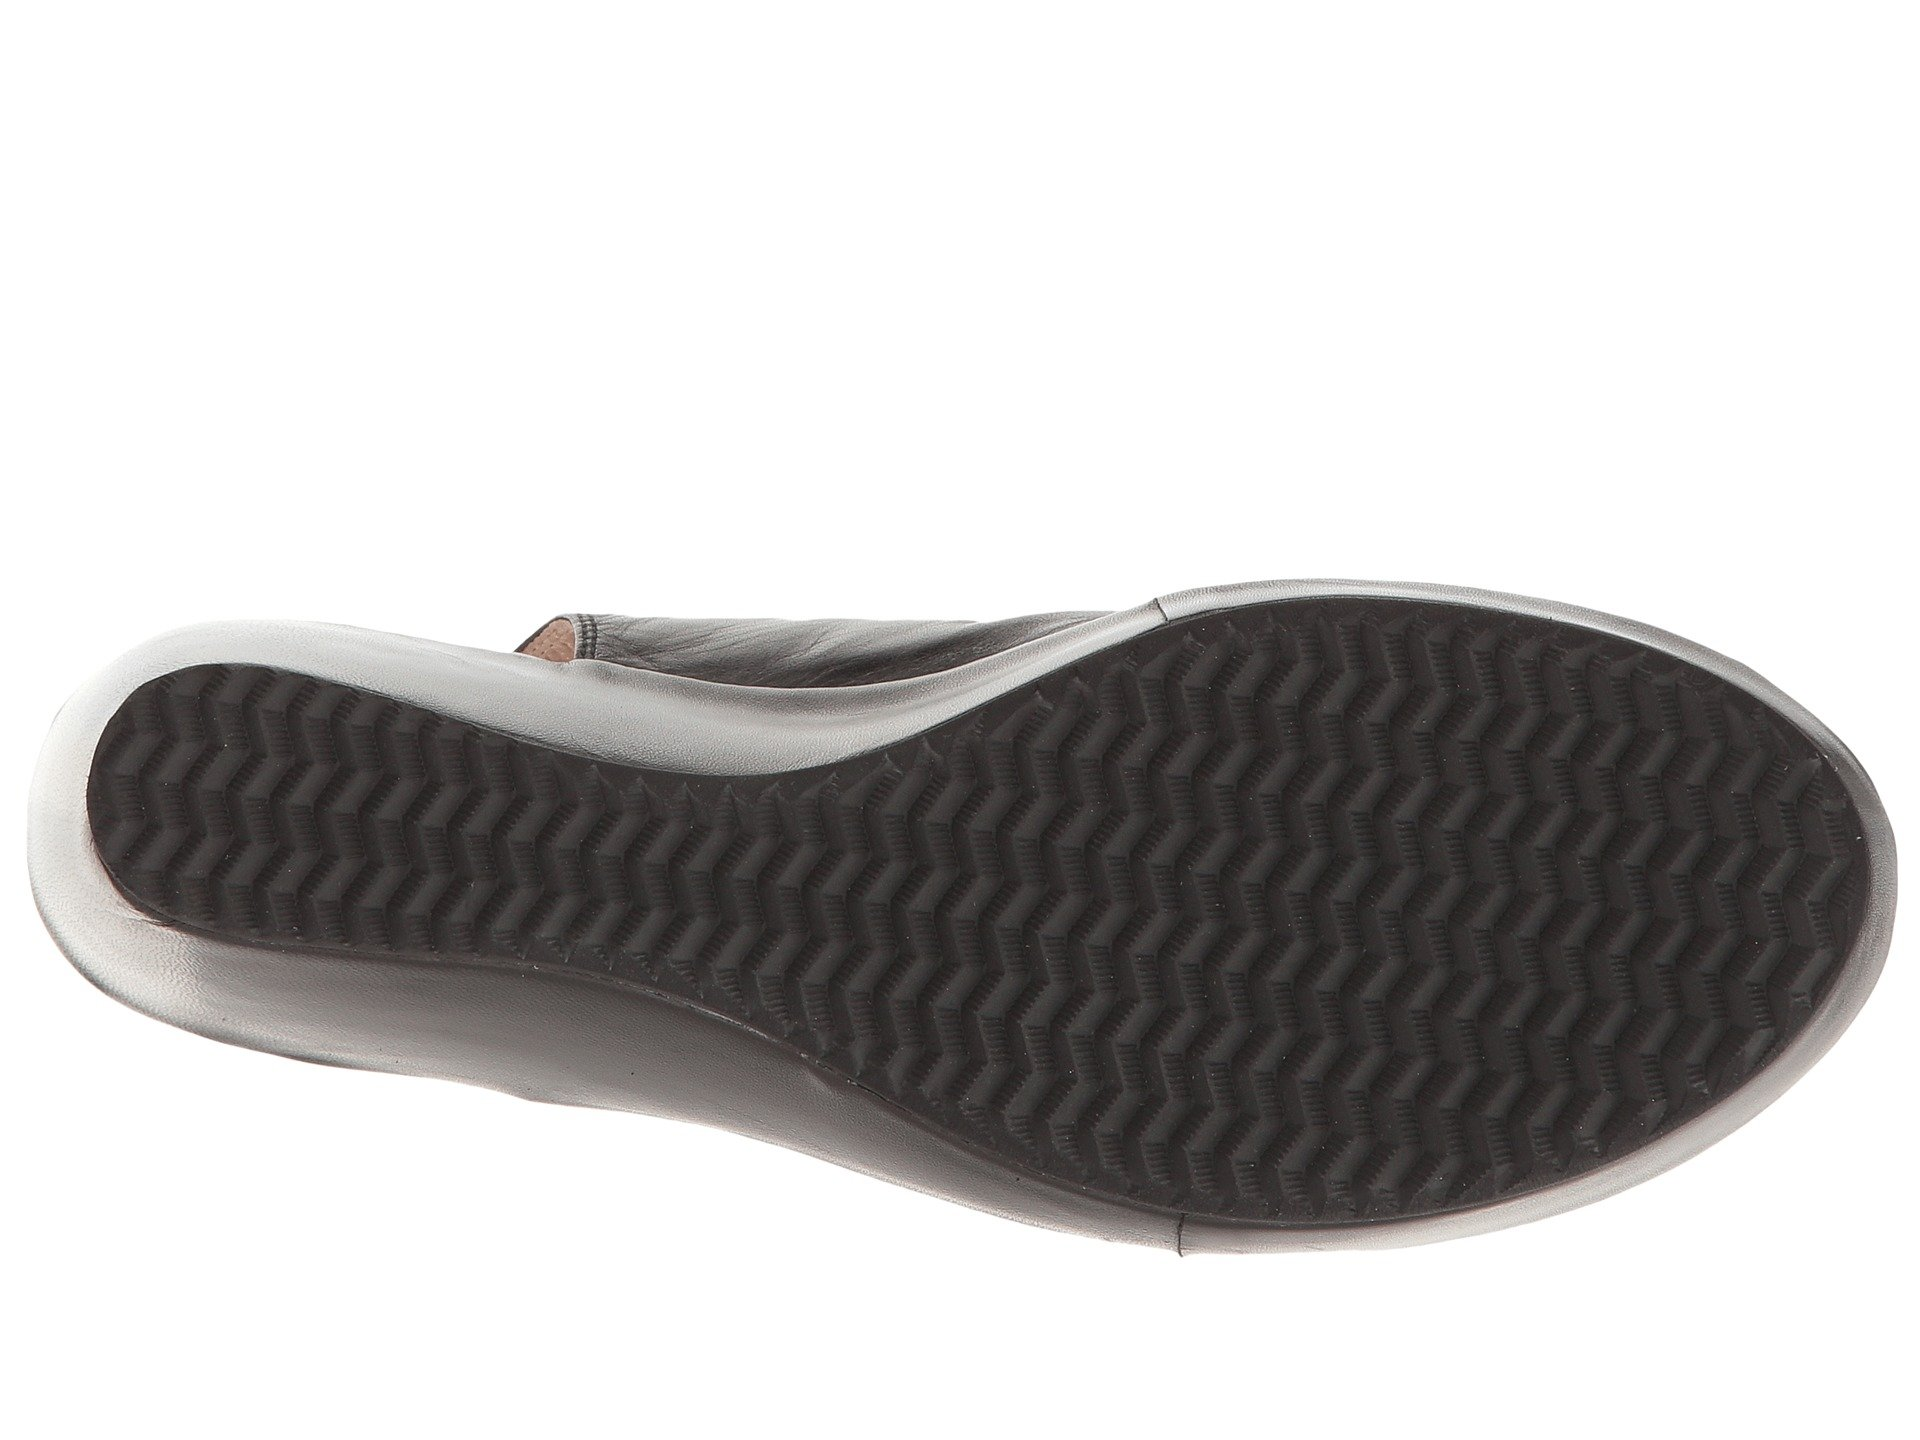chevron: (1128, 765, 1510, 1150)
